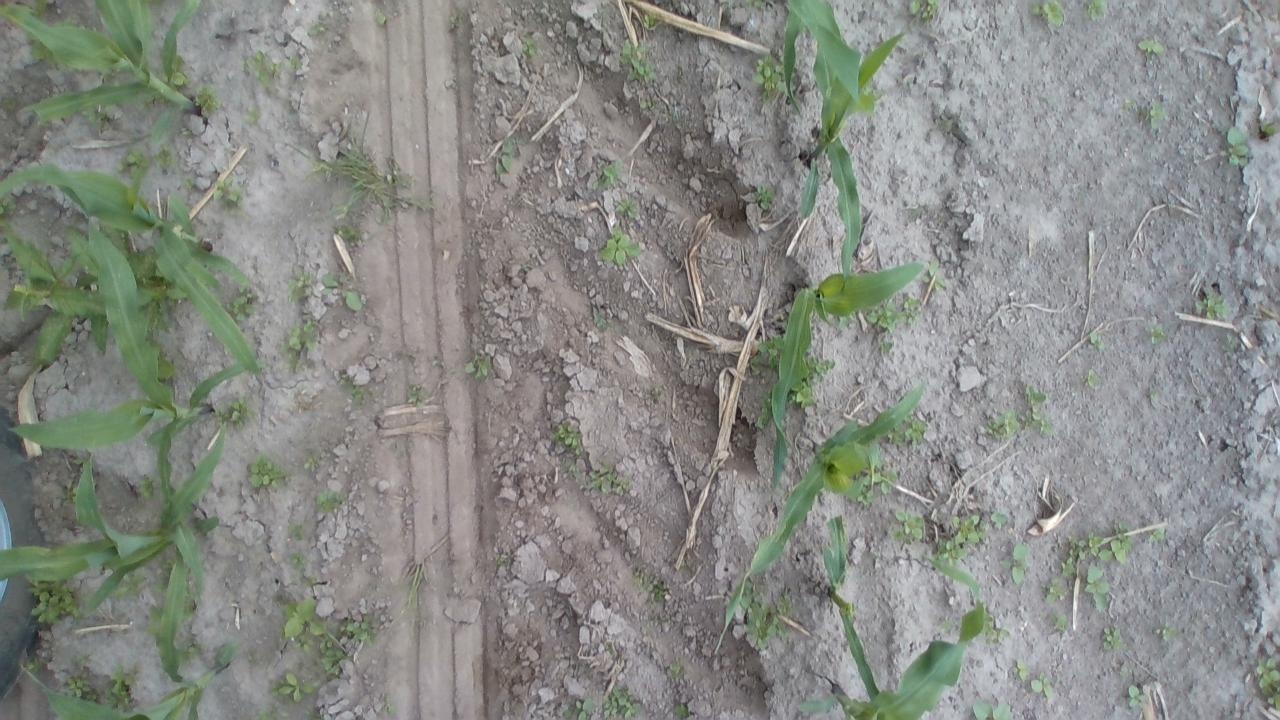Maize: (8, 214, 250, 508), (0, 424, 234, 684), (714, 381, 924, 659), (0, 166, 256, 374), (770, 261, 924, 488), (795, 31, 905, 294), (3, 0, 202, 145), (794, 605, 987, 720), (22, 656, 234, 720), (818, 515, 881, 702), (780, 0, 862, 107)
Weeds: (0, 221, 107, 364), (299, 131, 433, 221), (1040, 520, 1130, 633), (982, 384, 1054, 435), (136, 254, 183, 326), (742, 590, 794, 652), (27, 580, 80, 623), (936, 512, 982, 560), (314, 270, 366, 312), (284, 602, 324, 652), (622, 41, 662, 88), (599, 224, 645, 264), (577, 463, 632, 496), (890, 504, 926, 549), (244, 456, 286, 494), (868, 306, 898, 357), (246, 48, 284, 88), (604, 682, 644, 720), (280, 314, 320, 351), (1252, 654, 1280, 706), (756, 55, 786, 101), (556, 416, 594, 452), (108, 668, 140, 710), (858, 468, 898, 501), (402, 558, 428, 608), (749, 331, 780, 372), (996, 546, 1028, 582), (272, 676, 318, 701), (964, 699, 1018, 720), (1026, 0, 1066, 28), (1196, 294, 1234, 323), (1224, 126, 1252, 165), (805, 352, 841, 382), (1096, 622, 1128, 655), (291, 266, 322, 300), (318, 638, 350, 670), (340, 618, 376, 646), (226, 287, 258, 318), (464, 353, 496, 383), (120, 574, 154, 601), (898, 294, 927, 324), (592, 161, 620, 189), (212, 178, 244, 202), (218, 400, 250, 424), (133, 474, 158, 504), (69, 678, 103, 700), (124, 150, 152, 176), (494, 138, 514, 174), (1148, 92, 1169, 126), (1152, 614, 1180, 639), (518, 32, 546, 57), (194, 90, 222, 115), (910, 0, 940, 23), (315, 490, 341, 516), (334, 221, 360, 246), (924, 261, 946, 288), (1124, 688, 1152, 708), (905, 418, 928, 442), (159, 144, 178, 172), (674, 696, 698, 718), (572, 698, 596, 719), (1144, 324, 1169, 344), (760, 393, 774, 428), (1030, 677, 1054, 697), (648, 578, 668, 602), (590, 305, 608, 331), (1080, 369, 1102, 390), (613, 196, 634, 218), (156, 360, 178, 381), (756, 184, 774, 209), (1138, 38, 1166, 54), (1085, 0, 1107, 20), (795, 384, 812, 408), (250, 708, 284, 720), (286, 547, 307, 566), (665, 660, 687, 678), (1262, 120, 1278, 144), (1088, 333, 1108, 352), (641, 12, 662, 30), (1007, 659, 1027, 677), (305, 455, 323, 474), (249, 102, 265, 122), (990, 513, 1011, 528), (448, 8, 462, 30), (175, 72, 192, 90), (290, 523, 308, 540), (633, 564, 647, 585), (370, 10, 388, 26), (90, 107, 108, 122), (288, 57, 306, 72), (1151, 530, 1165, 549), (888, 426, 905, 441), (312, 23, 330, 37), (638, 94, 652, 112), (351, 386, 370, 399), (1120, 99, 1136, 114), (408, 384, 423, 400), (0, 99, 19, 111), (25, 656, 41, 670), (32, 0, 48, 11), (384, 697, 396, 711), (304, 572, 316, 586), (494, 553, 508, 564), (749, 0, 765, 9)
